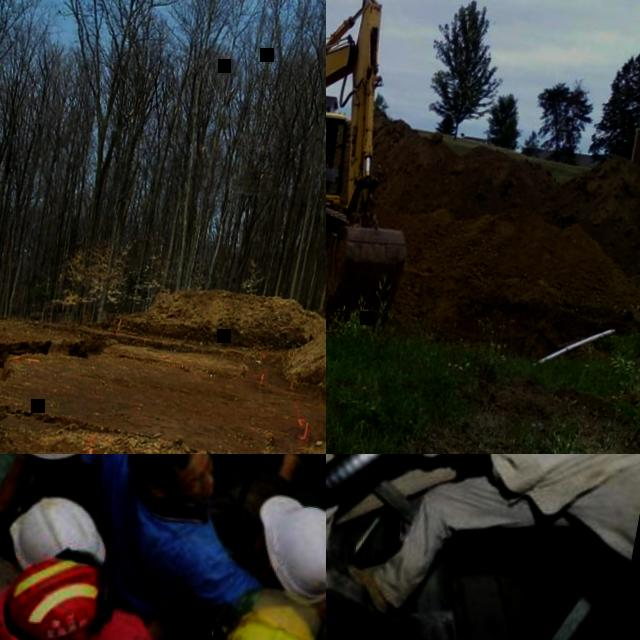Hardhat: (236, 476, 326, 619), (7, 486, 118, 580), (2, 549, 108, 640), (187, 589, 326, 640)
NO-Hardhat: (125, 454, 199, 483)
NO-Mask: (188, 477, 219, 510)
NO-Safety Vest: (81, 464, 215, 626), (444, 454, 640, 508), (34, 454, 110, 523), (55, 610, 149, 640)
Person: (334, 454, 640, 640), (44, 454, 286, 640), (0, 547, 192, 640), (0, 454, 139, 550), (238, 474, 326, 620), (326, 124, 338, 168)
vehicle: (326, 0, 452, 336)
